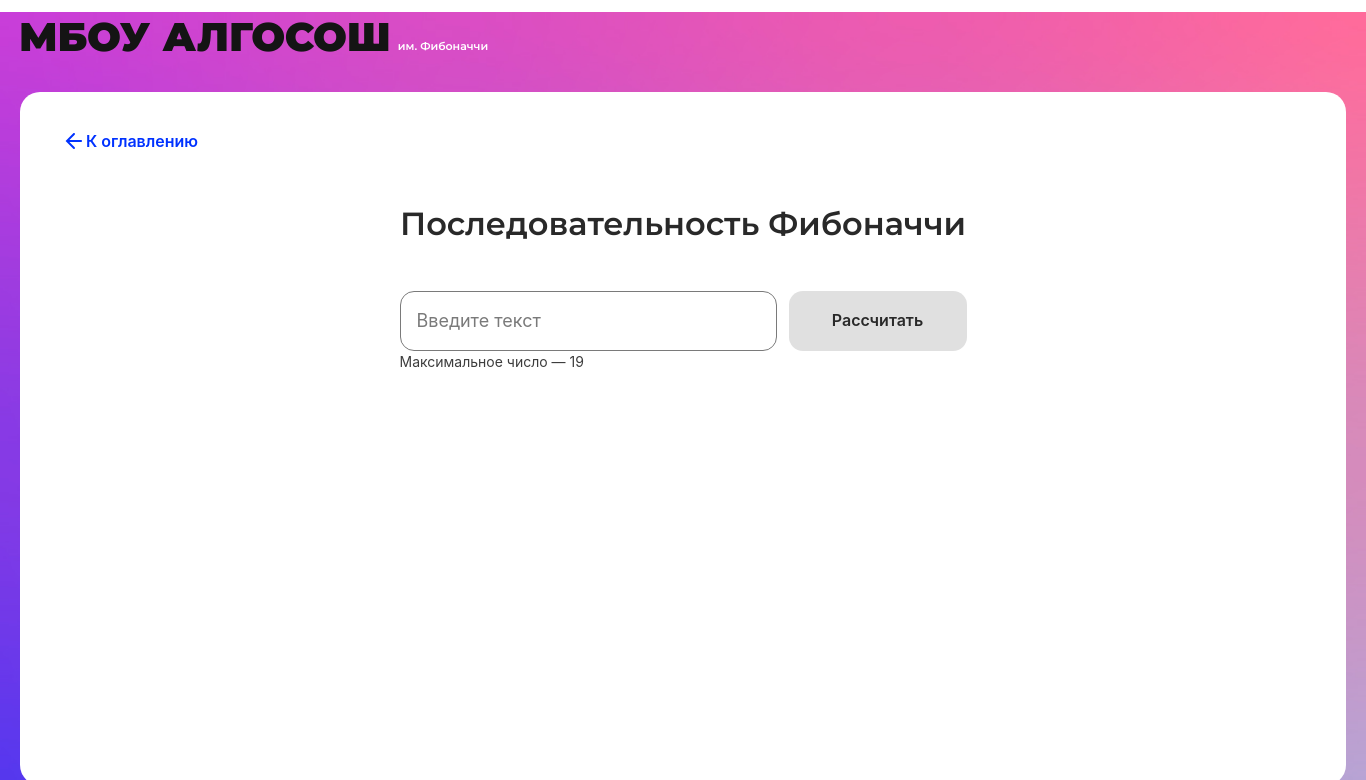
Scenario: Testing Fibonacci Page › should have a disabled submit button when input is empty
Check: the submit button is disabled, box [789, 291, 967, 351]
Check: the element named "fibonacciInput" is enabled
Type "19" into the field named "fibonacciInput" at (589, 321), box [400, 291, 777, 351]
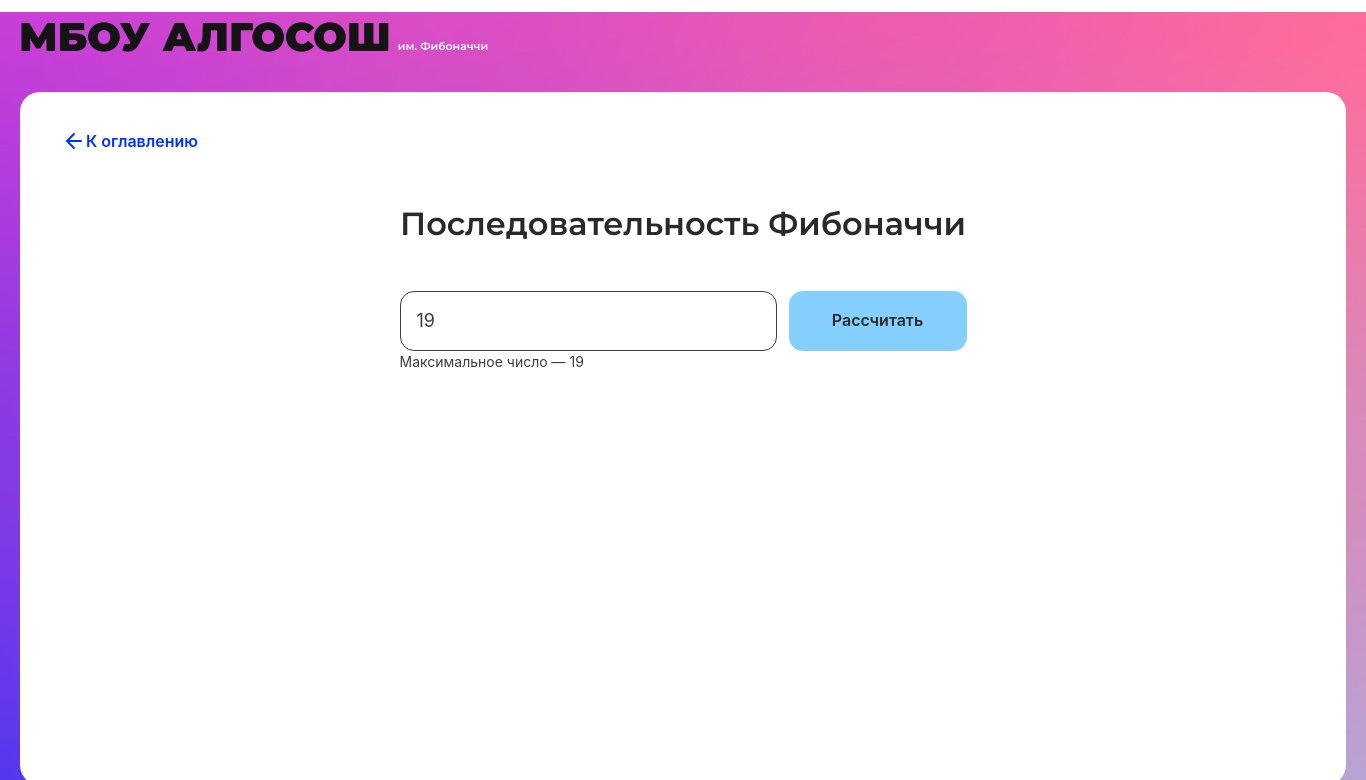
Check: the submit button is enabled
Clear the field named "fibonacciInput" at (589, 321), box [400, 291, 777, 351]
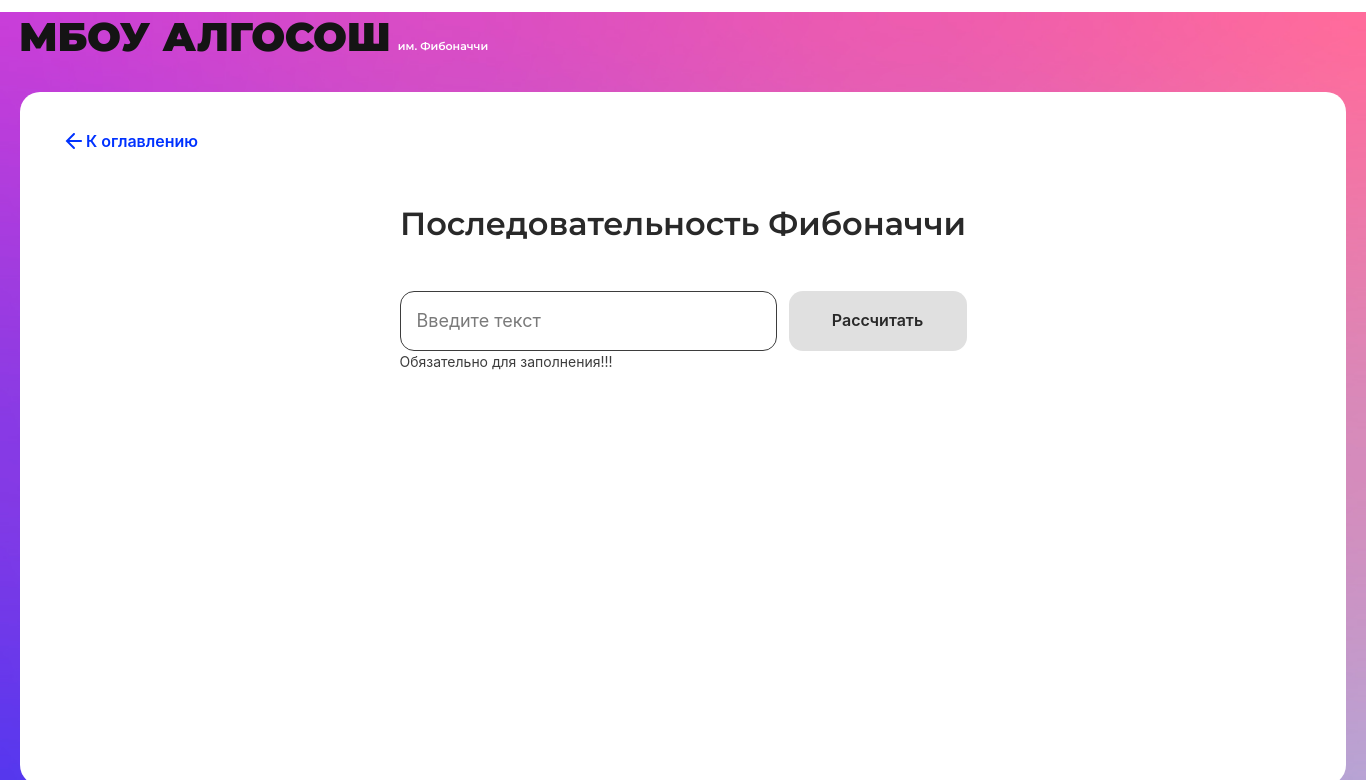
Check: the submit button is disabled, box [789, 291, 967, 351]
